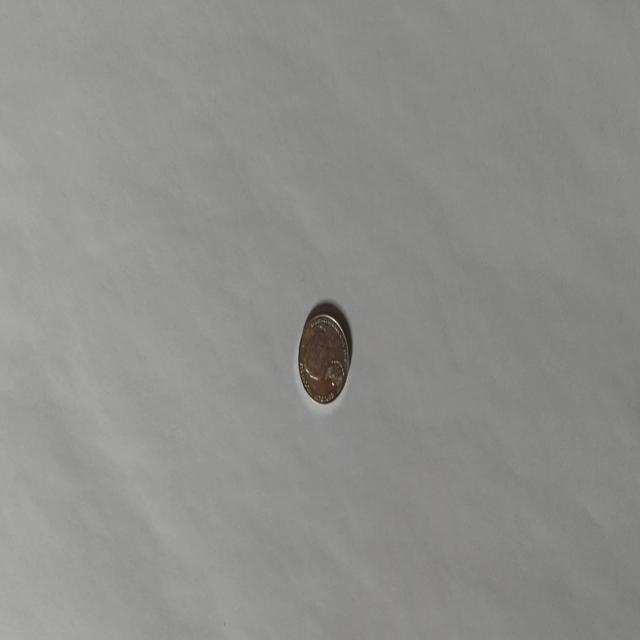seratus rupiah: (296, 310, 349, 404)
